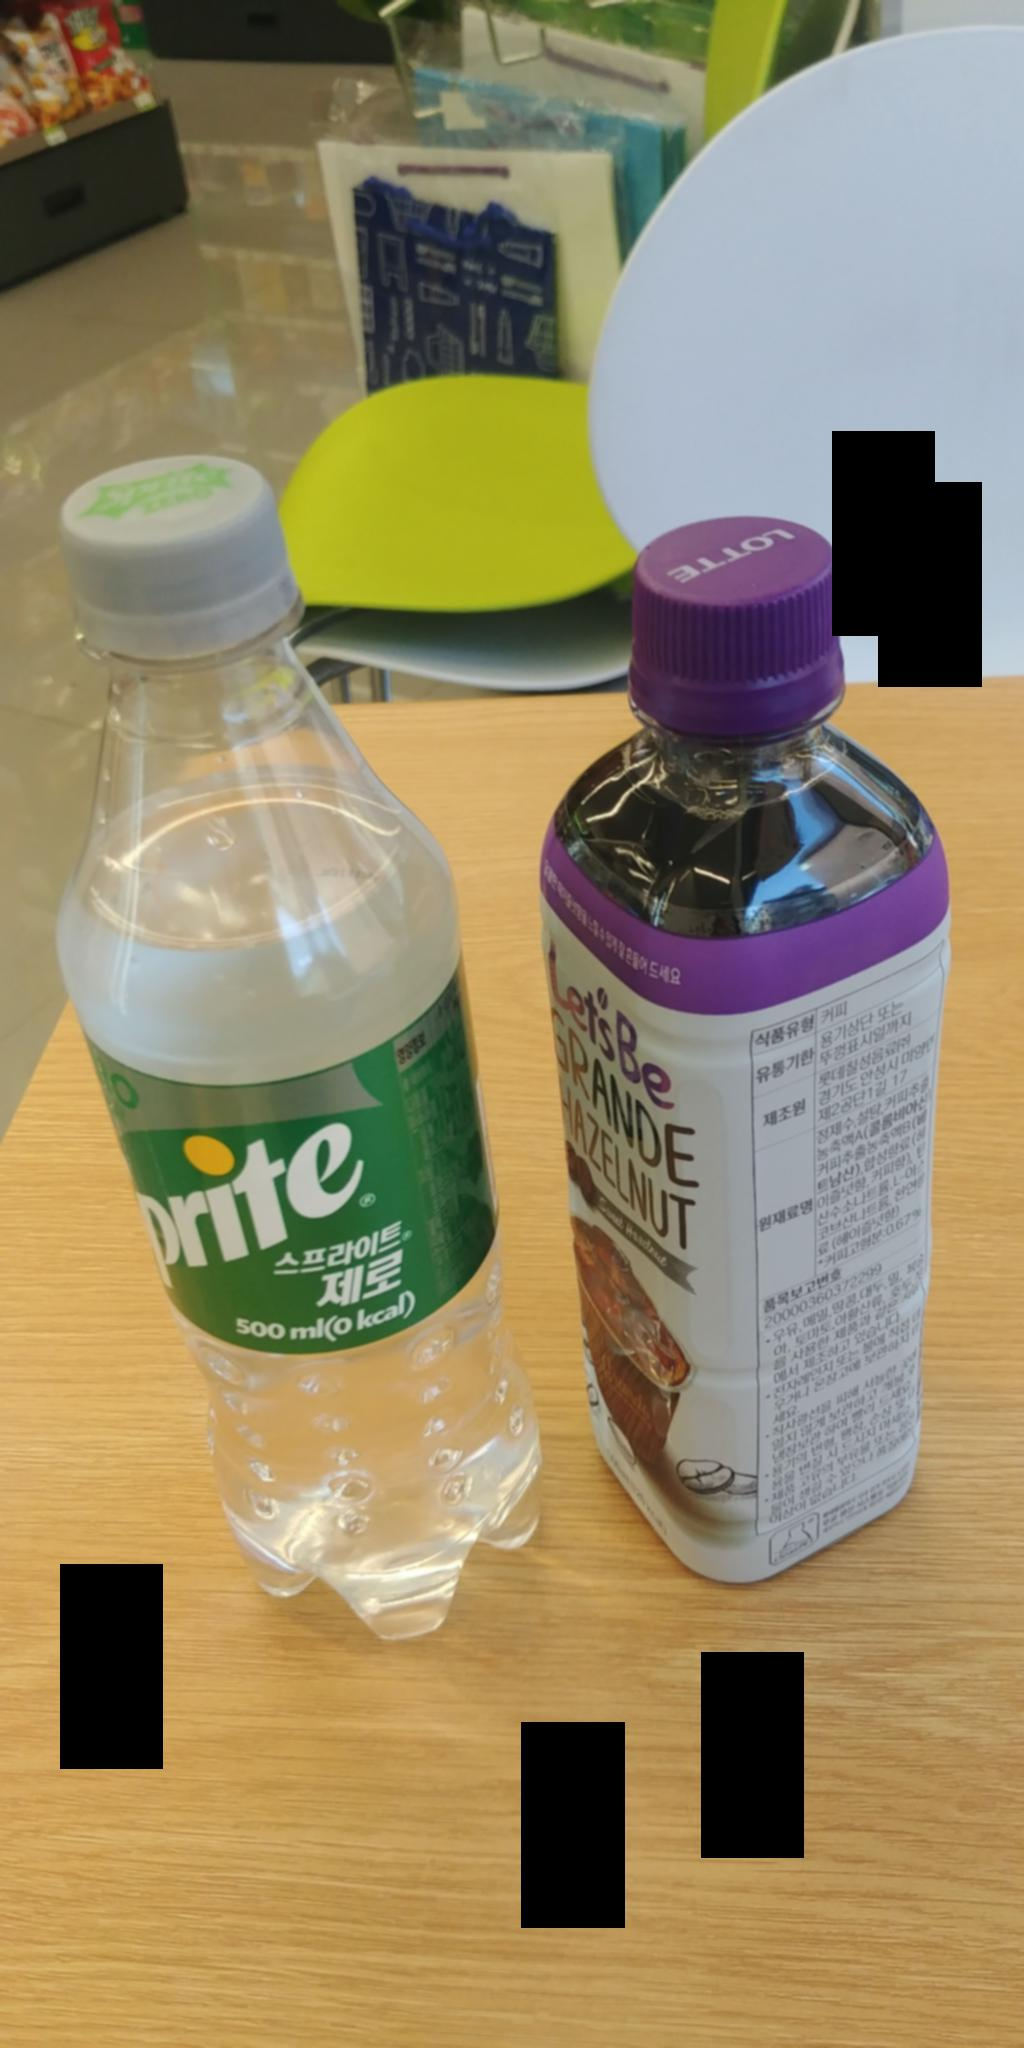letsbe_grande_hazelnut: (519, 507, 969, 1613)
sprite_zero: (0, 448, 559, 1684)
